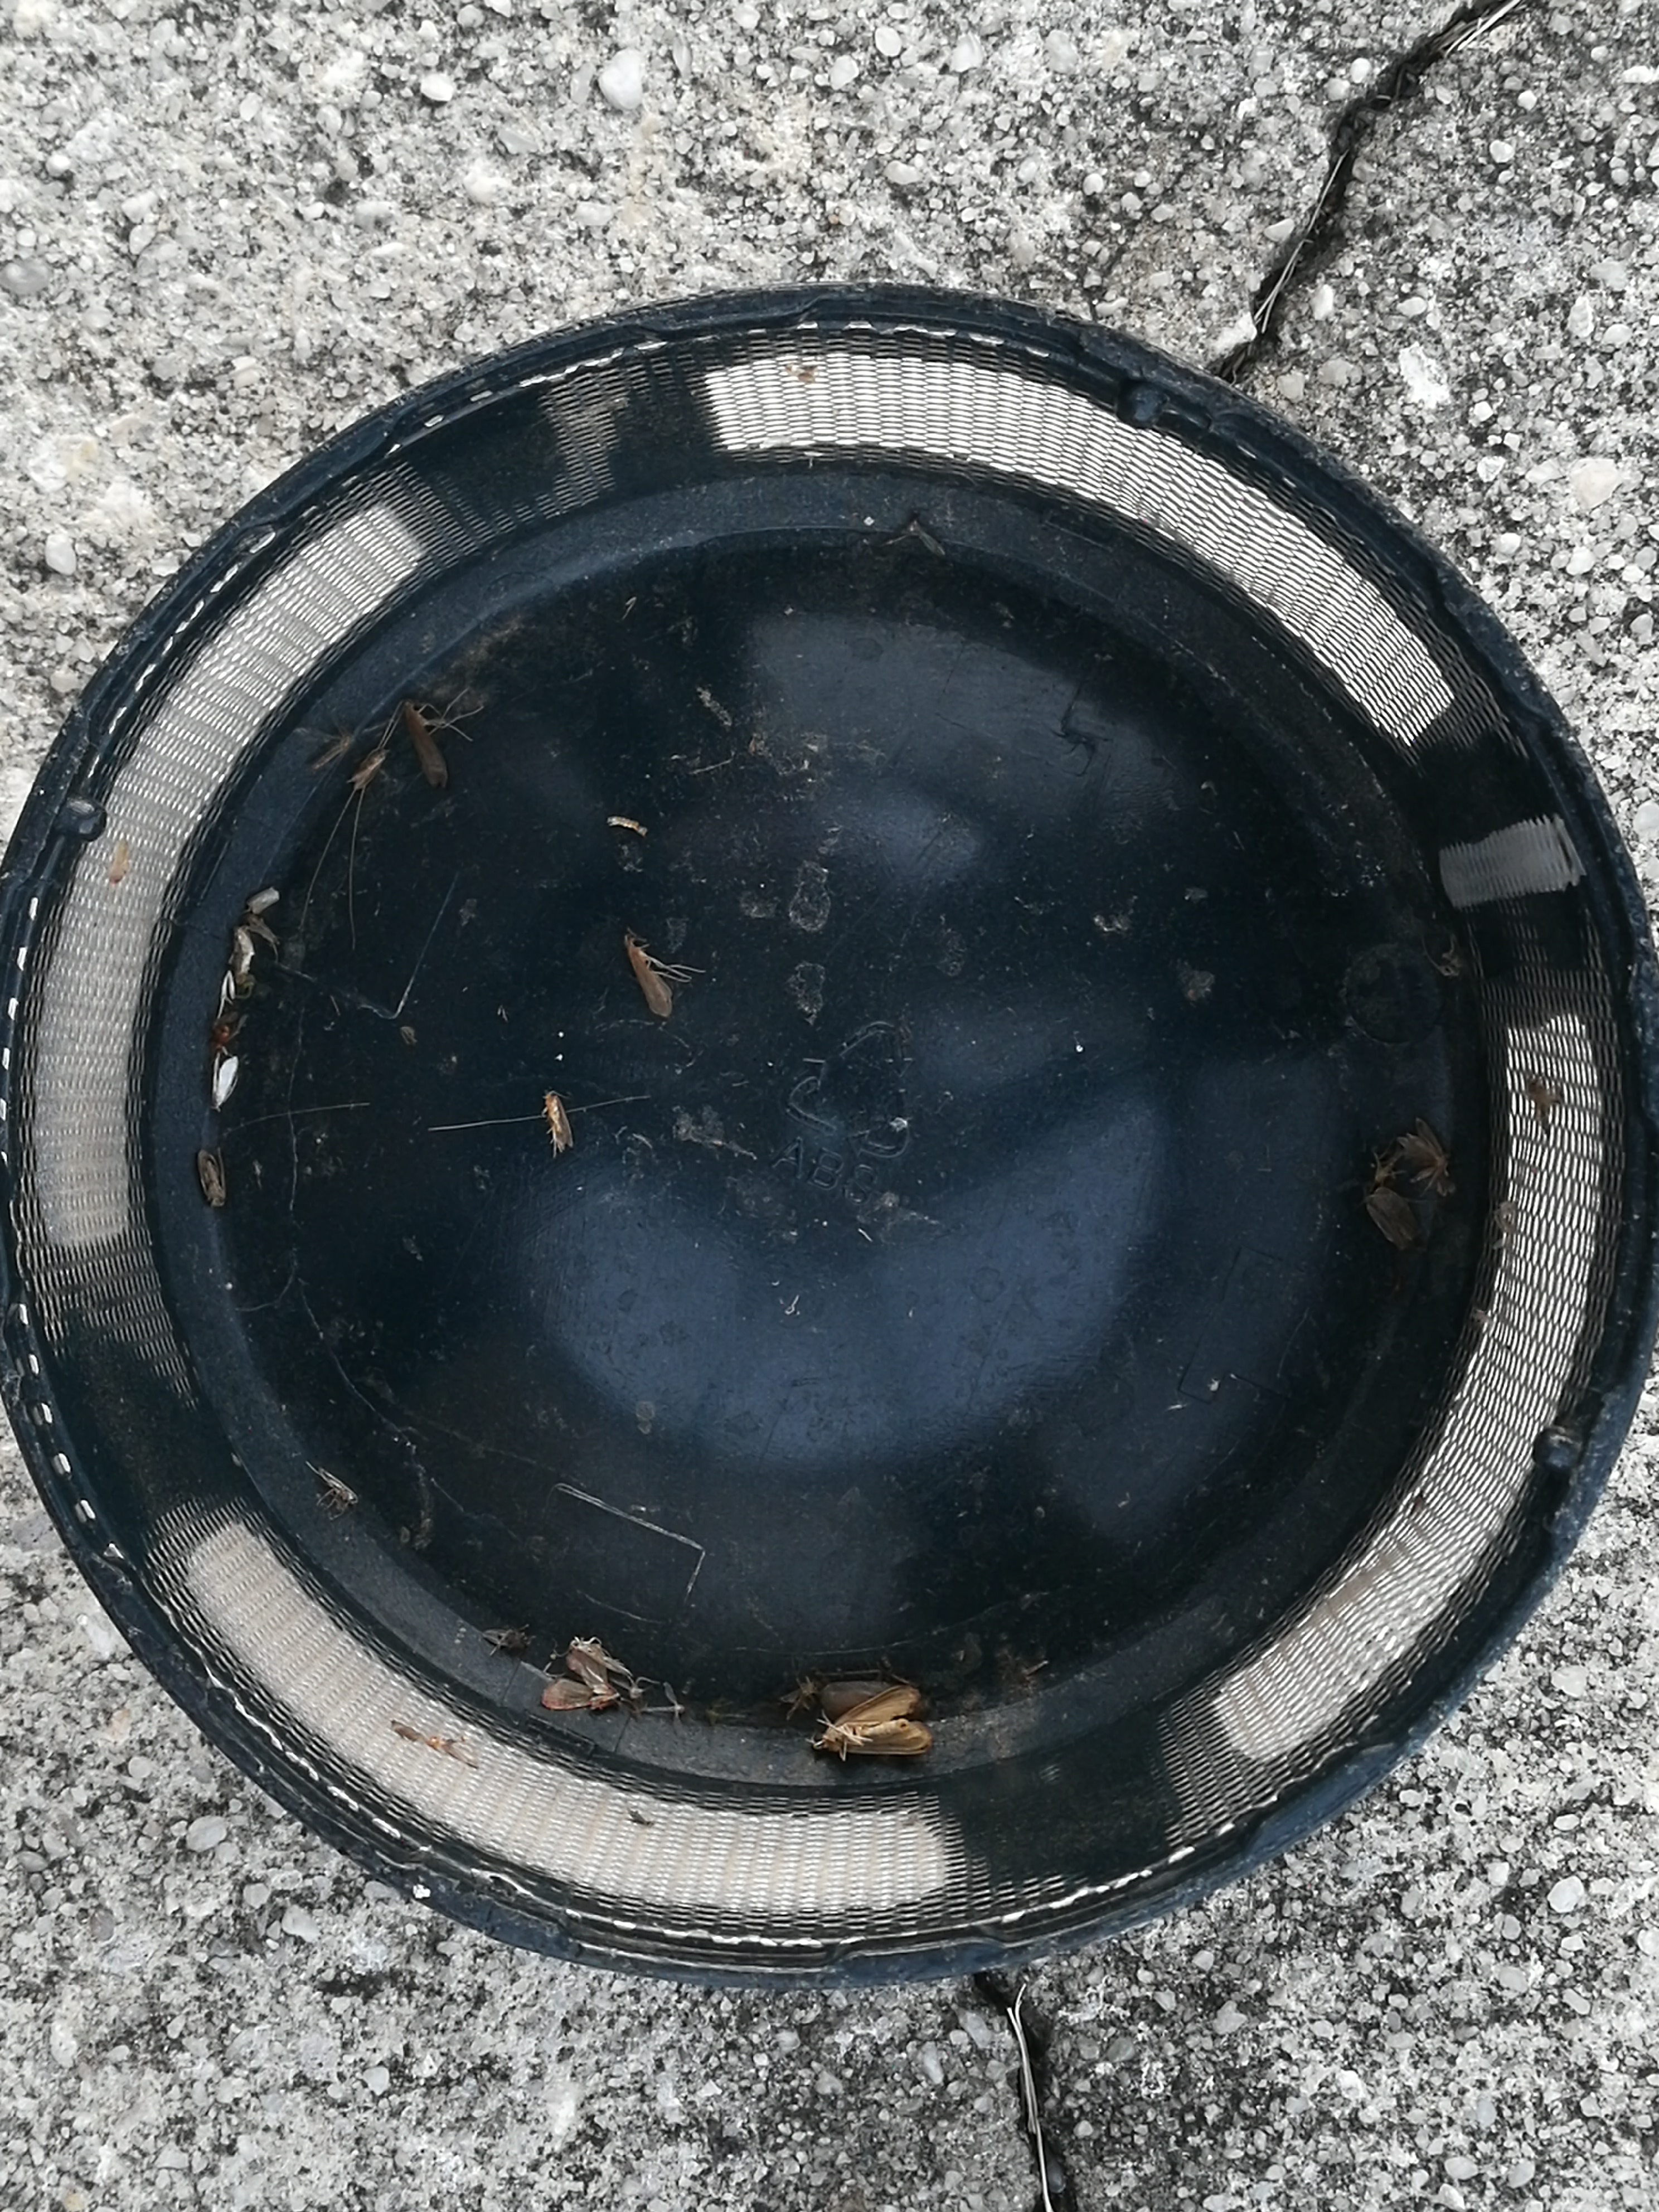mosquito: (403, 698, 448, 789), (626, 934, 671, 1015), (544, 1092, 572, 1157), (199, 1148, 227, 1205), (352, 745, 390, 787), (209, 1055, 237, 1108), (242, 913, 277, 944), (235, 928, 253, 981)
moth: (817, 1686, 932, 1756), (545, 1648, 612, 1709)
